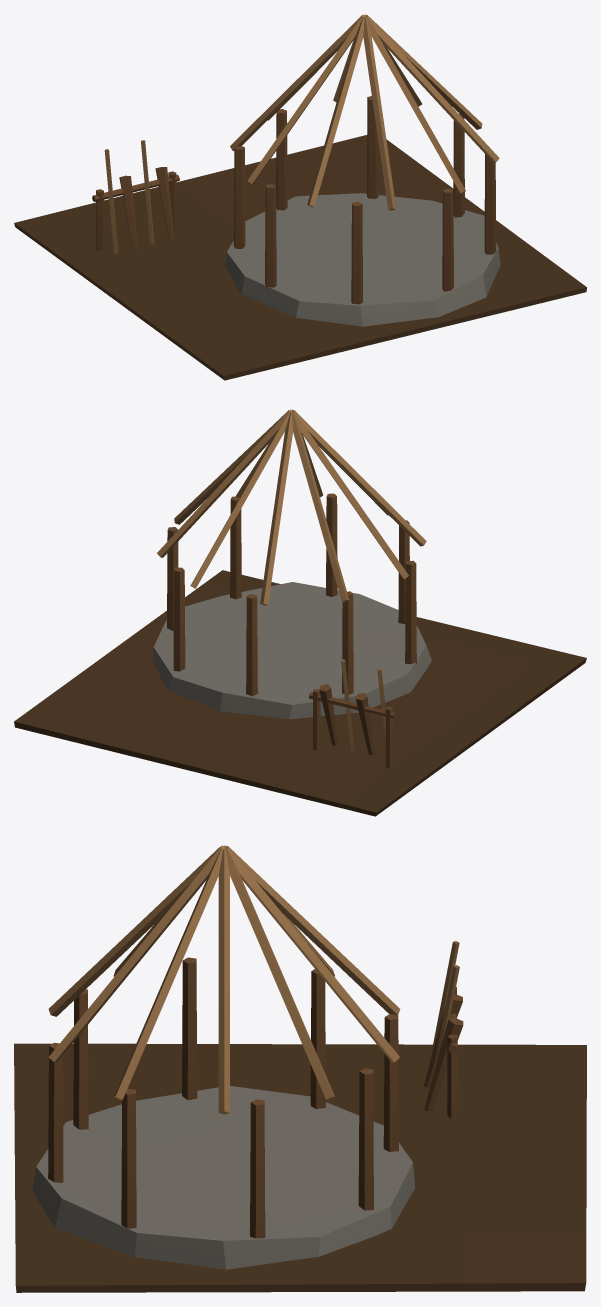
The model's file is barracks_s1.glb.
3 renders of one model, top to bottom at view 1: azimuth 30°, elevation 25°; view 2: azimuth 150°, elevation 25°; view 3: azimuth 270°, elevation 25°, orthographic. The views are drawn at different scales.
Parts seen in each view (by area): view 1: barracks_s1; view 2: barracks_s1; view 3: barracks_s1.
Boxes of the visible parts, x1,y1,x2,y2 form: barracks_s1: (14,14,586,380); barracks_s1: (14,409,586,816); barracks_s1: (14,845,586,1292).
Bounding box in the file's own units: 3.01 × 2.05 × 3.01.
